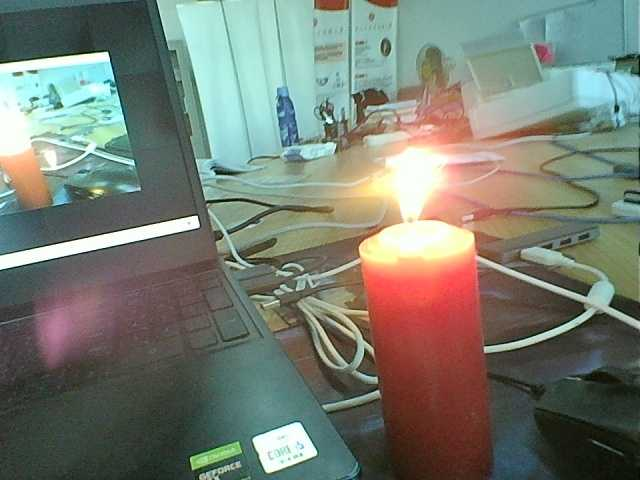candle: (358, 242, 496, 475), (1, 152, 57, 220)
fire: (370, 146, 466, 255), (1, 104, 37, 154)
